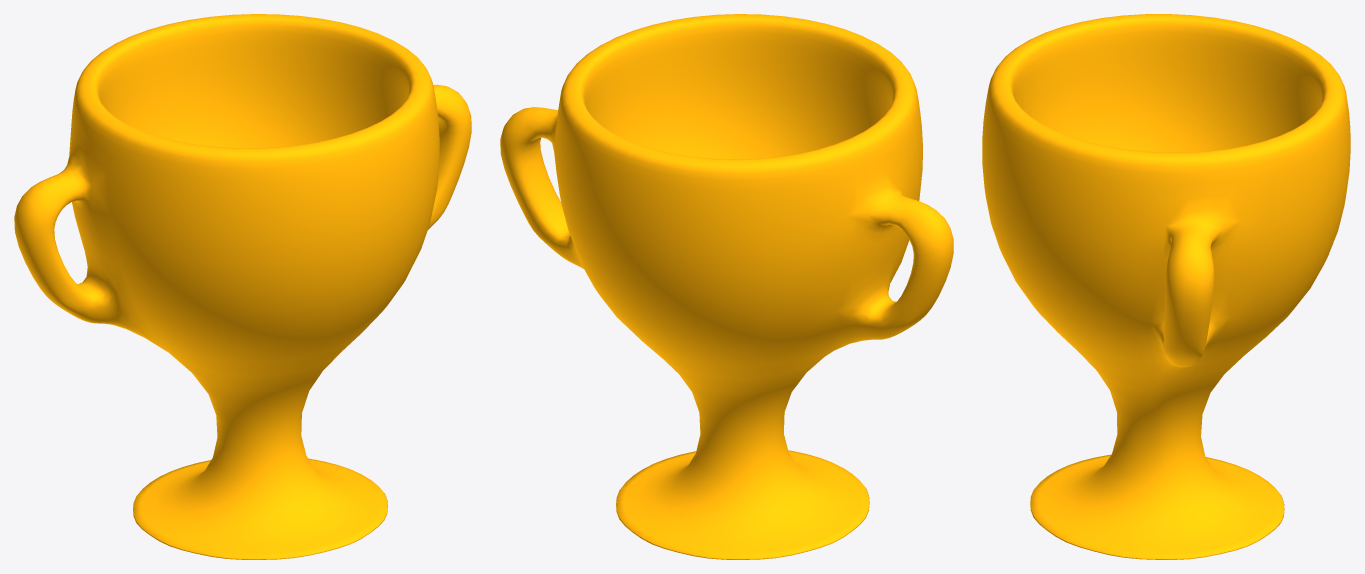
Rendered from TrophyCups.fbx.
3 renders of one model, left to right at view 1: azimuth 30°, elevation 25°; view 2: azimuth 150°, elevation 25°; view 3: azimuth 270°, elevation 25°, orthographic.
Visible parts, largest first — view 1: CupMediumPoly; view 2: CupMediumPoly; view 3: CupMediumPoly.
Part boxes in pixels (box(x1,y1,x2,y2)): CupMediumPoly: box(14, 14, 471, 559); CupMediumPoly: box(500, 14, 953, 559); CupMediumPoly: box(982, 14, 1350, 559).
Size of the model in its own units: 359 by 328 by 256.
